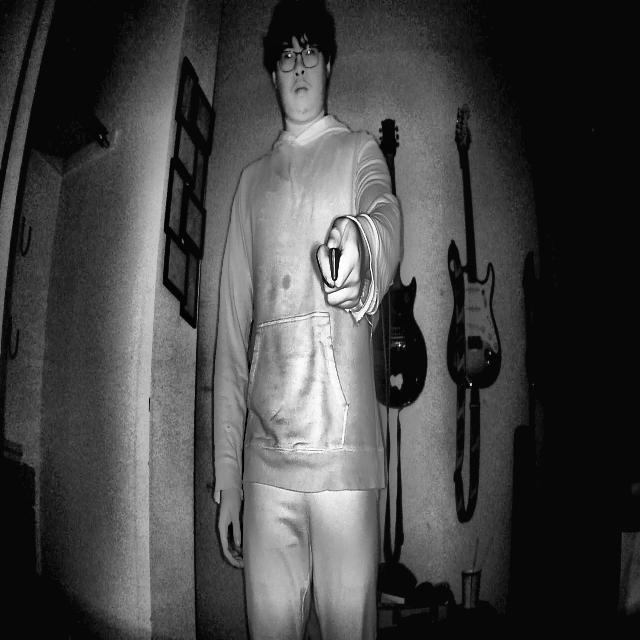knife: (308, 220, 356, 329)
